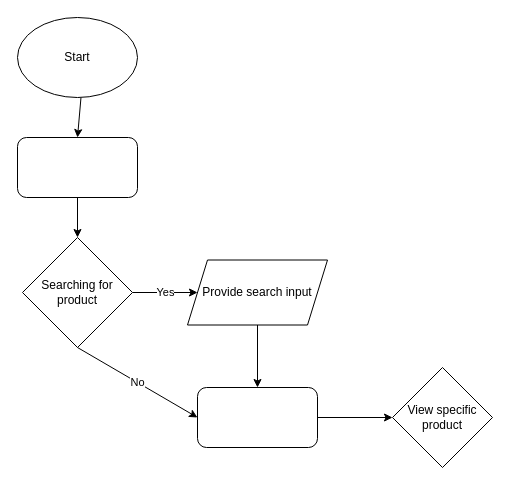
Image size: 510x485. Some labels were removed from this diagram. Here are the shapes that lost their labels. From the top down, the box of each, then its label:
(16, 136, 138, 198): User enters website
(196, 386, 318, 448): Look over products
